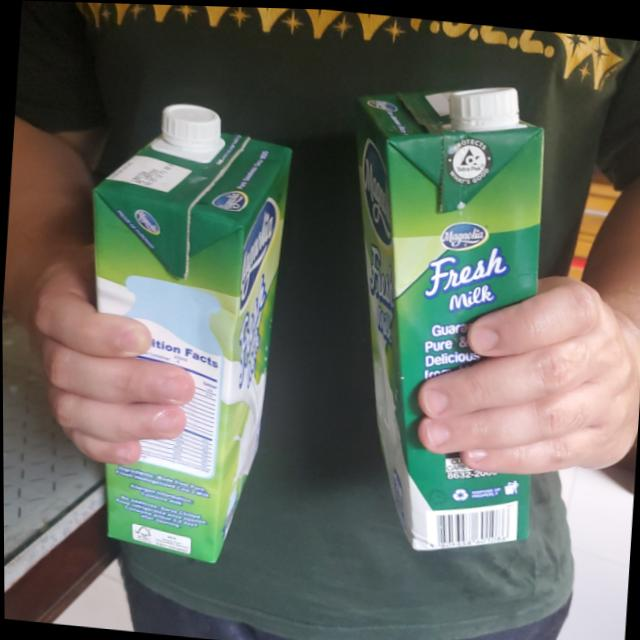milk: (324, 67, 560, 557), (59, 93, 292, 573)
